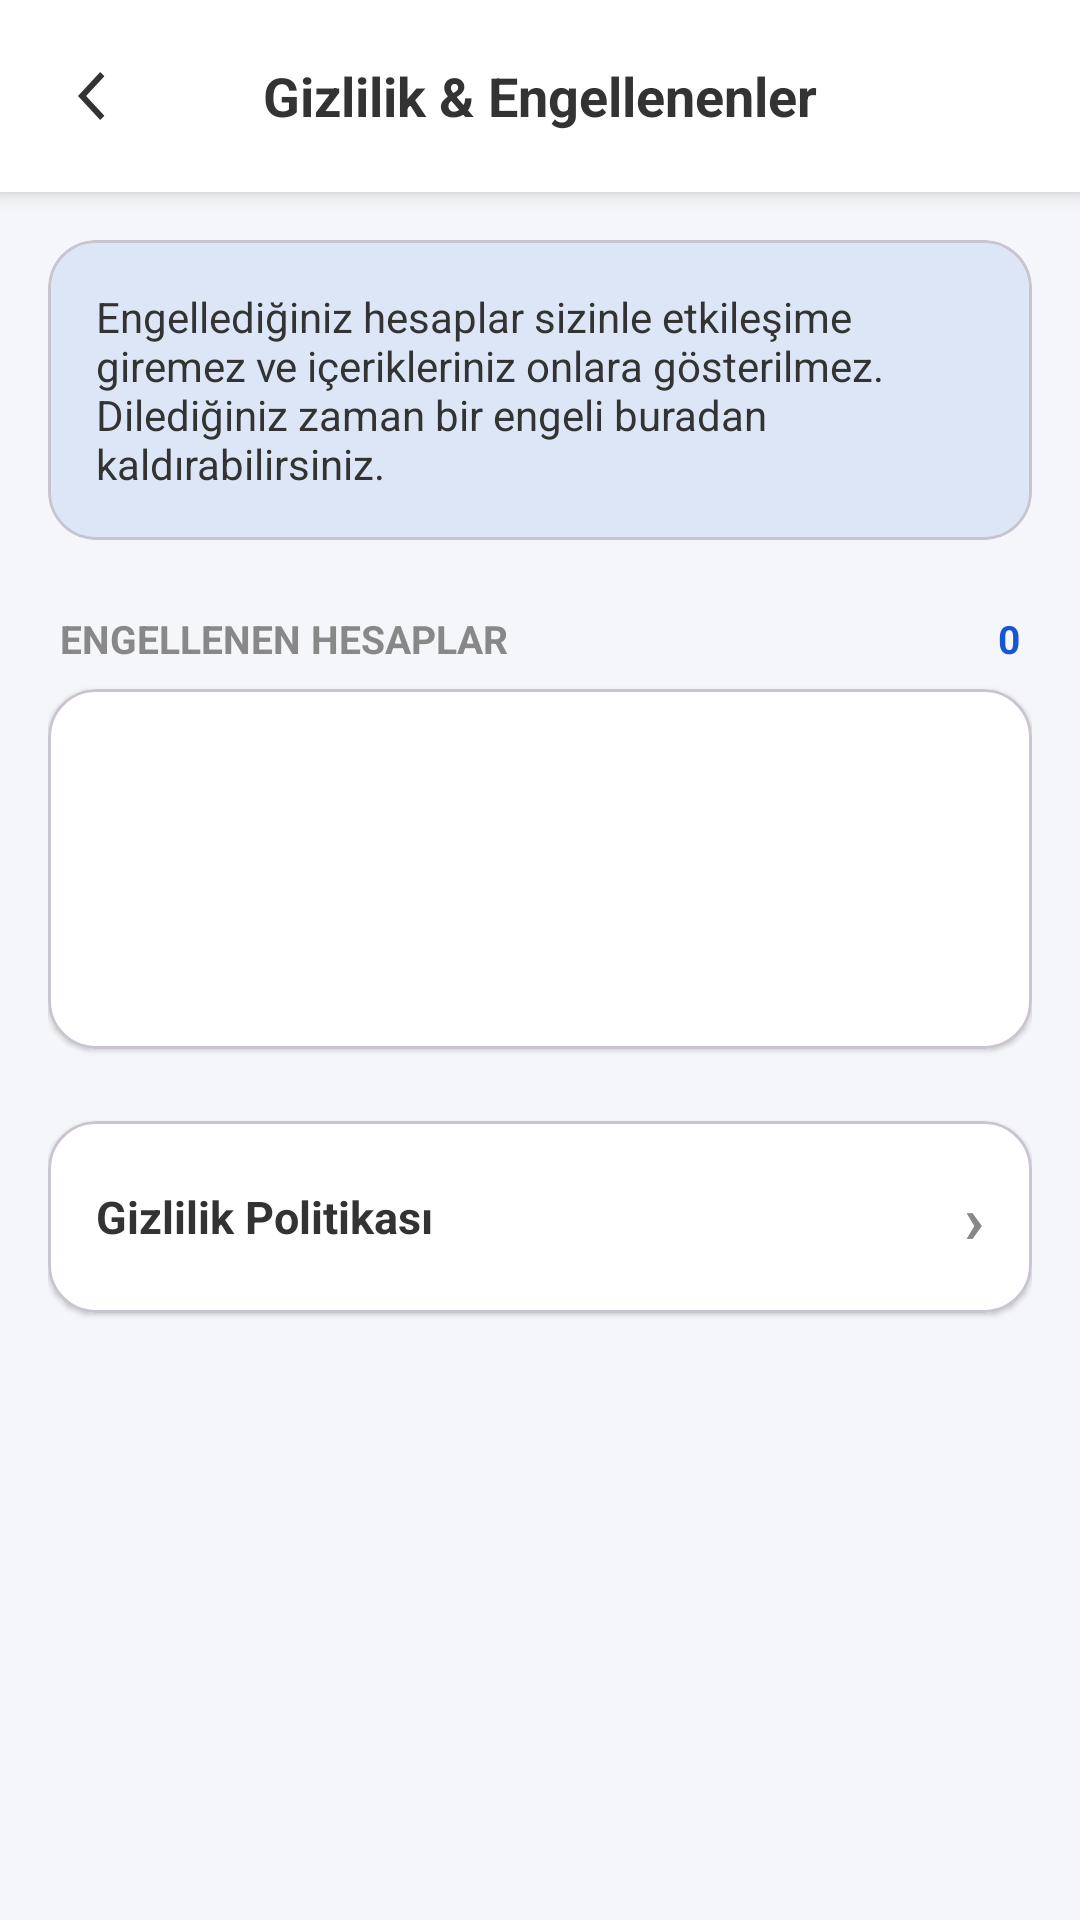

Icon bounding boxes for this 1080 × 1920 phone screenshot, format region(x1, y1, x2, y2):
Geri: region(78, 72, 105, 120)
